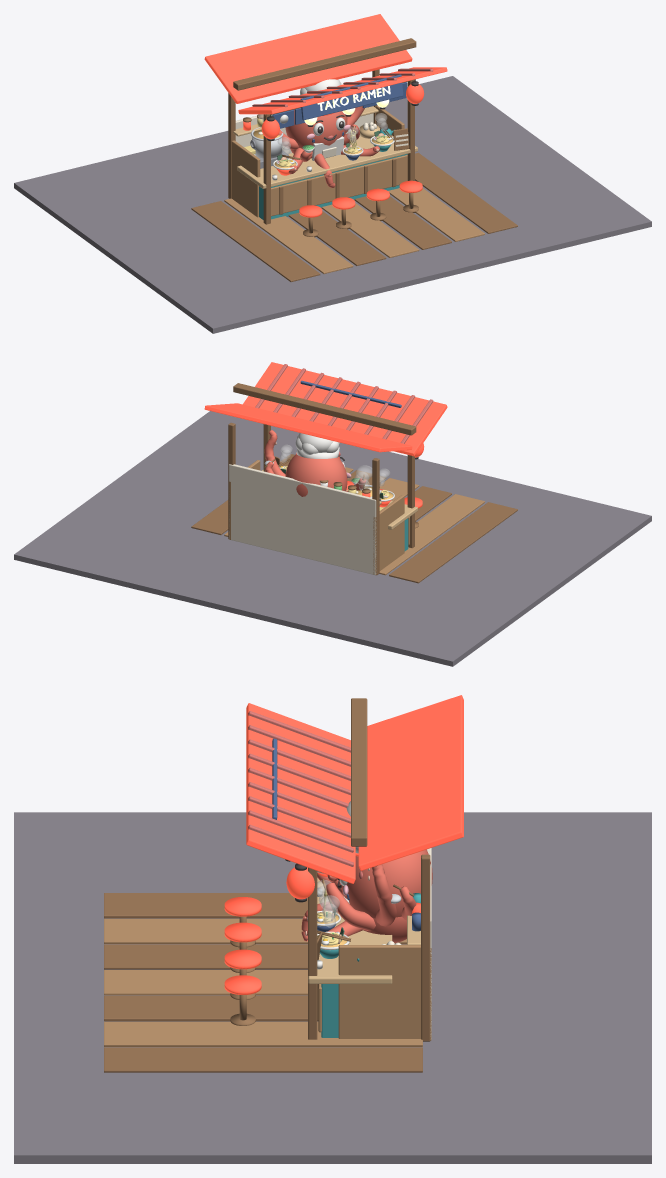
The model's file is octopus_ramen_booth.glb.
3 views of the same model, one above another, from view 1: azimuth 30°, elevation 25°; view 2: azimuth 150°, elevation 25°; view 3: azimuth 270°, elevation 25° (orthographic). The views are drawn at different scales.
Parts seen in each view (by area): view 1: Ground, RoofBack, CounterFrontPanel, Plank-3, Plank3, Plank-2, CounterTop, RoofRidge, Plank2, Plank0, Plank1, Plank-1 (+9 smaller); view 2: Ground, BackWall, RoofFront, Plank-3, RoofBack, Plank-2, RoofRidge, SideL, OctoHead, Plank3, Plank-1, Post-2.3_1.6 (+1 smaller); view 3: Ground, RoofBack, RoofFront, Plank3, SideR, Plank2, Plank1, Plank-1, Plank0, Plank-3, Plank-2, OctoHead (+8 smaller).
Part boxes in pixels (<box>): Ground: <box>14,76,651,333</box>; RoofBack: <box>204,14,412,103</box>; CounterFrontPanel: <box>271,155,407,216</box>; Plank-3: <box>191,201,320,281</box>; Plank3: <box>415,152,517,233</box>; Plank-2: <box>224,198,353,273</box>; CounterTop: <box>237,135,417,188</box>; RoofRidge: <box>233,38,416,90</box>; Plank2: <box>388,188,484,241</box>; Plank0: <box>321,203,419,257</box>; Plank1: <box>354,196,451,249</box>; Plank-1: <box>288,211,386,265</box>; Ground: <box>14,411,651,666</box>; BackWall: <box>229,464,376,575</box>; RoofFront: <box>243,362,447,456</box>; Plank-3: <box>389,502,517,583</box>; RoofBack: <box>204,403,412,452</box>; Plank-2: <box>379,494,484,575</box>; RoofRidge: <box>233,383,416,435</box>; SideL: <box>373,495,404,574</box>; OctoHead: <box>285,454,347,496</box>; Plank3: <box>191,454,294,534</box>; Plank-1: <box>415,486,451,521</box>; Post-2.3_1.6: <box>372,458,379,575</box>; Ground: <box>14,812,651,1163</box>; RoofBack: <box>358,695,463,870</box>; RoofFront: <box>246,703,355,883</box>; Plank3: <box>104,1047,422,1072</box>; SideR: <box>338,945,431,1040</box>; Plank2: <box>104,1021,422,1046</box>; Plank1: <box>104,995,317,1021</box>; Plank-1: <box>104,944,406,969</box>; Plank0: <box>104,970,307,995</box>; Plank-3: <box>104,893,307,918</box>; Plank-2: <box>104,918,406,943</box>; OctoHead: <box>341,849,432,918</box>.
Bounding box in the file's own units: 14 × 4.35 × 11.
